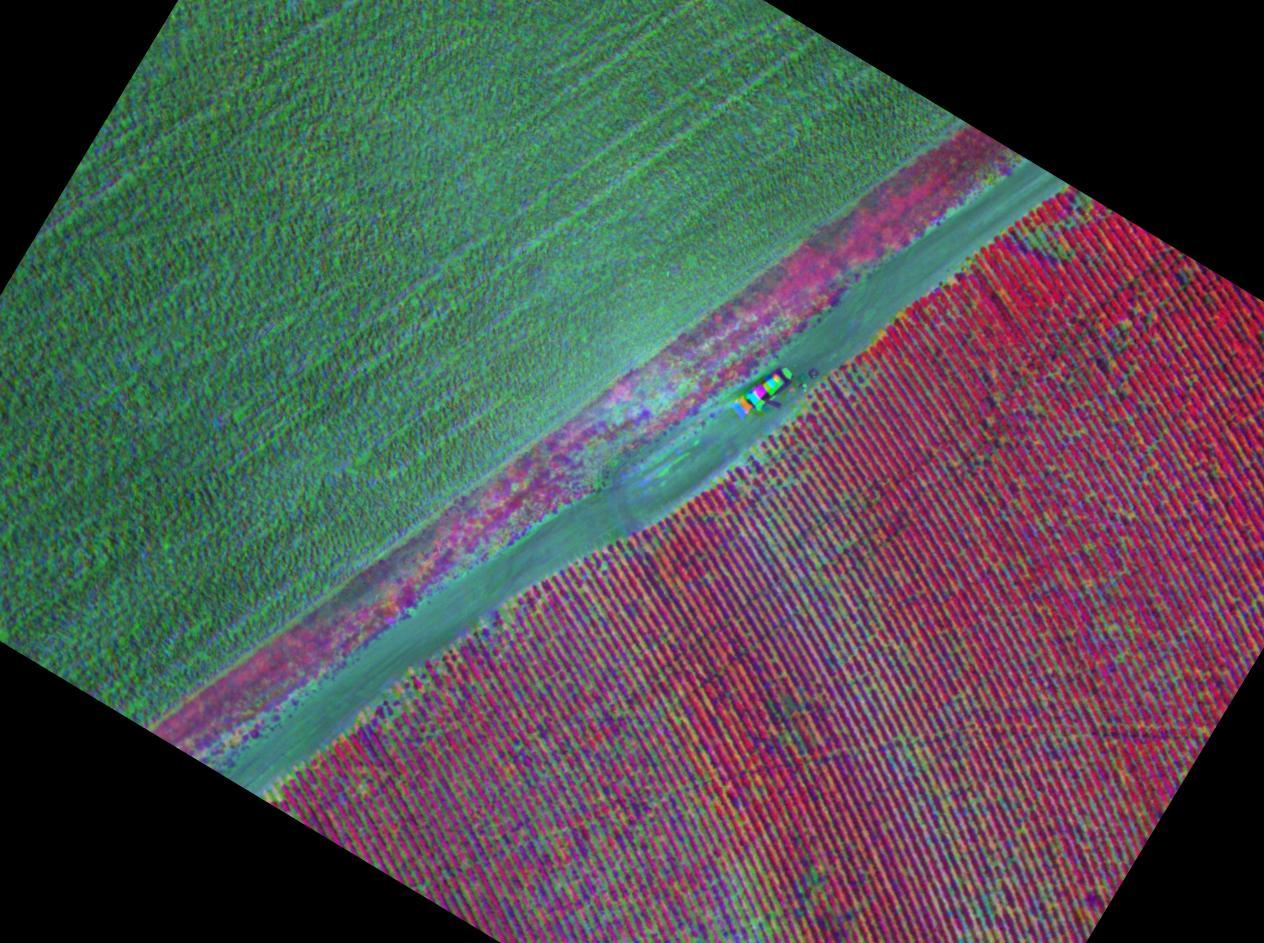dc: (1106, 627, 1110, 631), (907, 750, 911, 754)
